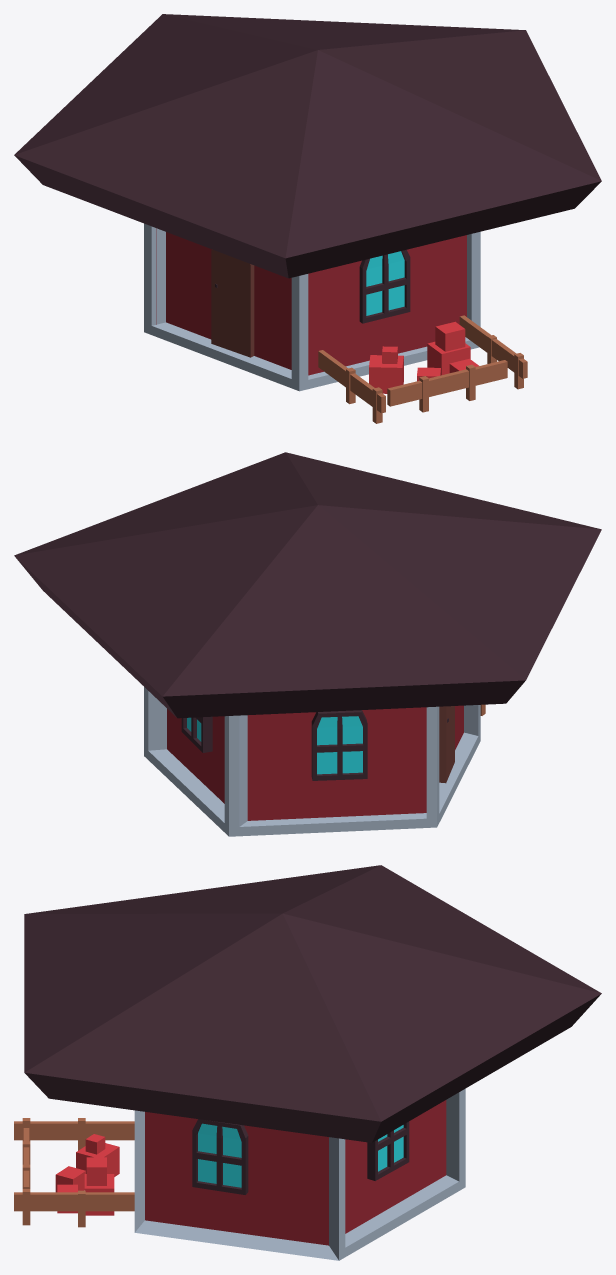
The model's file is clayMine.fbx.
3 views of the same model, one above another, from view 1: azimuth 30°, elevation 25°; view 2: azimuth 150°, elevation 25°; view 3: azimuth 270°, elevation 25° (orthographic). The views are drawn at different scales.
Parts seen in each view (by area): view 1: Sphere, Cube.027, Cube.008, poziom.001, poziom.002, poziom, Cube.003, Cube, Cube.001; view 2: Sphere, Cube.016, Cube.027, Cube.007; view 3: Sphere, Cube.006, poziom, poziom.002, Cube.007, Cube.003, Cube.001, Cube.005.
Part boxes in pixels (x1,y1,x2,y2): Sphere: [14, 14, 601, 391]; Cube.027: [211, 249, 254, 357]; Cube.008: [359, 250, 410, 323]; poziom.001: [387, 360, 507, 406]; poziom.002: [318, 350, 385, 413]; poziom: [459, 315, 527, 378]; Cube.003: [369, 355, 403, 393]; Cube: [427, 341, 470, 375]; Cube.001: [435, 321, 465, 351]; Sphere: [14, 452, 601, 836]; Cube.016: [311, 710, 367, 780]; Cube.027: [439, 706, 454, 783]; Cube.007: [181, 716, 212, 752]; Sphere: [24, 865, 601, 1260]; Cube.006: [192, 1119, 248, 1194]; poziom: [14, 1192, 134, 1211]; poziom.002: [14, 1121, 134, 1140]; Cube.007: [367, 1121, 409, 1180]; Cube.003: [76, 1143, 119, 1176]; Cube.001: [86, 1157, 106, 1185]; Cube.005: [55, 1166, 85, 1192].
Bounding box in the file's own units: 8.55 × 4.25 × 8.27.
